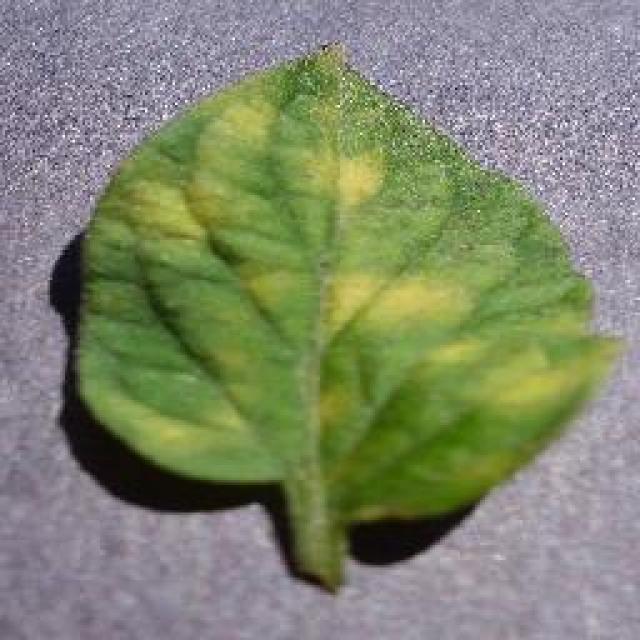Tomato mold leaf: (69, 38, 621, 538)
